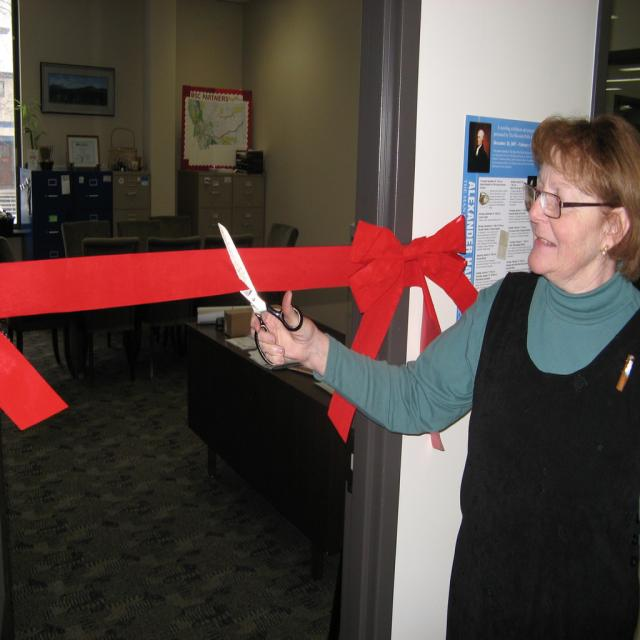scissors: (217, 222, 302, 366)
